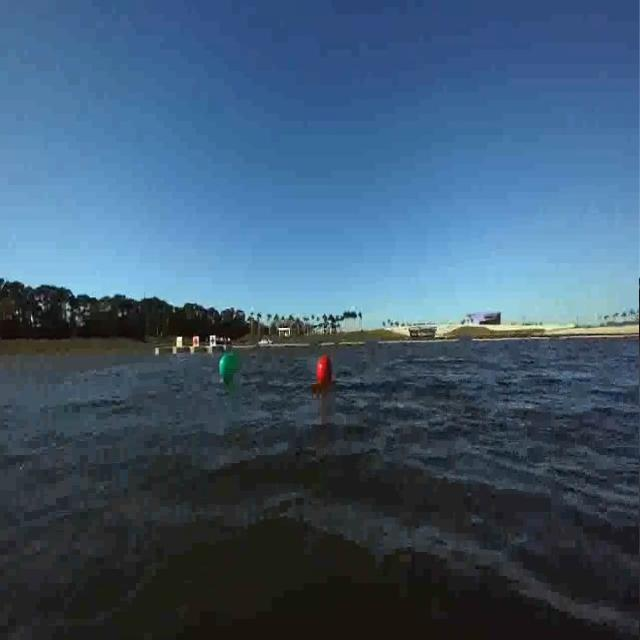green-buoy: (218, 346, 245, 386)
red-buoy: (310, 354, 330, 399)
